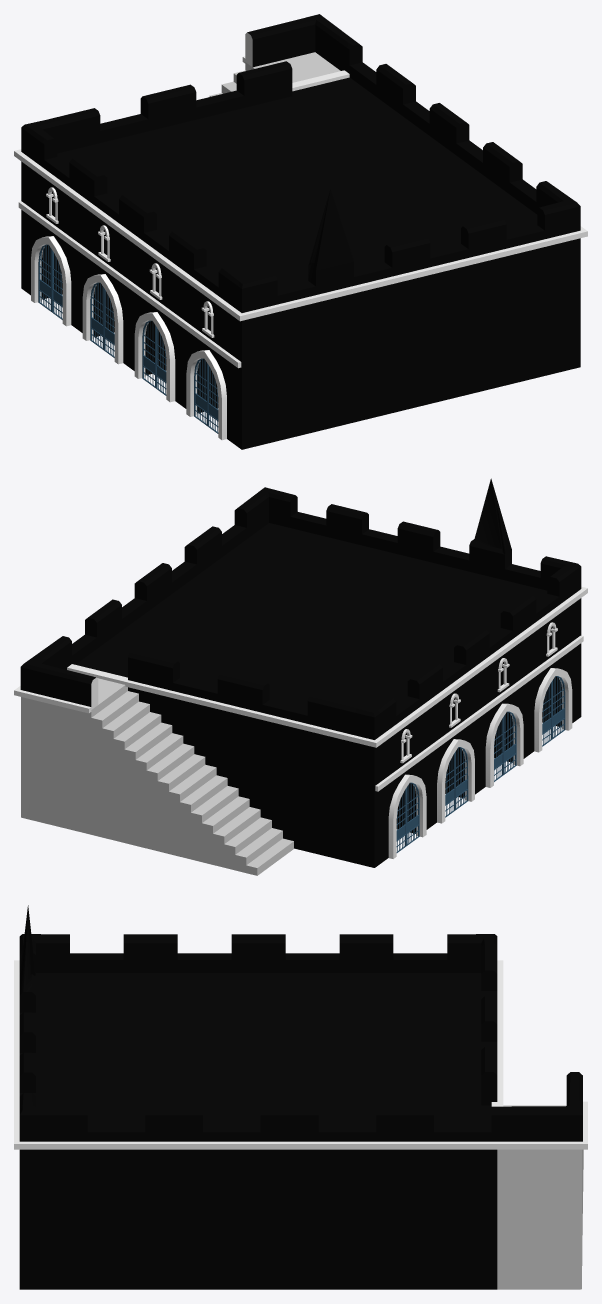
The model's file is building_base_a_2.FBX.
3 renders of one model, top to bottom at view 1: azimuth 30°, elevation 25°; view 2: azimuth 150°, elevation 25°; view 3: azimuth 270°, elevation 25°, orthographic. The views are drawn at different scales.
Visible parts, largest first — view 1: building_base_a; view 2: building_base_a; view 3: building_base_a.
Part boxes in pixels (<box>): building_base_a: <box>14,14,587,449</box>; building_base_a: <box>14,478,587,875</box>; building_base_a: <box>14,905,587,1289</box>.
Size of the model in its own units: 2736 by 1767 by 3604.
